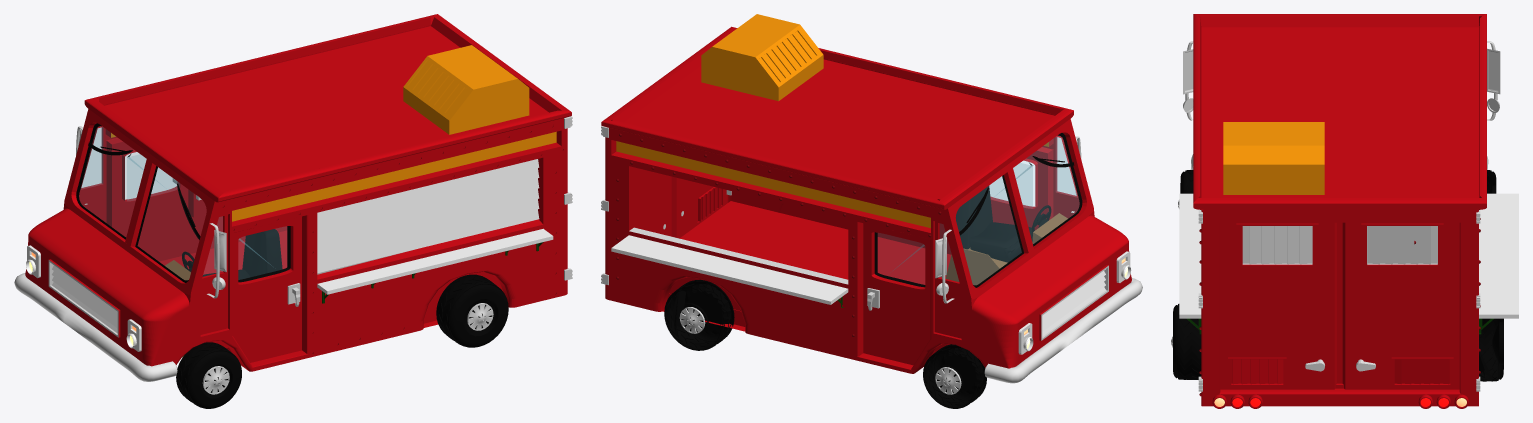
Rendered from FOOD TRUCK.glb.
3 renders of one model, left to right at view 1: azimuth 30°, elevation 25°; view 2: azimuth 150°, elevation 25°; view 3: azimuth 270°, elevation 25°, orthographic. The views are drawn at different scales.
Parts seen in each view (by area): view 1: TRUCK, VENT, TIRES, SERVING COUNTER, BUMPER, CARSEAT, HUBCAPS, MIRRORS, HEADLIGHTS; view 2: TRUCK, VENT, TIRES, SERVING COUNTER, BUMPER, CARSEAT, HUBCAPS, CARSEAT MOUNT, HEADLIGHTS, MIRRORS, STEERING WHEEL; view 3: TRUCK, SERVING COUNTER, VENT, TIRES, MIRRORS, BRAKELIGHTS, HINGES, HANDLES.
Boxes of the visible parts, x1,y1,x2,y2 form: TRUCK: (25, 14, 571, 371); VENT: (403, 45, 529, 134); TIRES: (176, 274, 508, 408); SERVING COUNTER: (172, 178, 553, 294); BUMPER: (14, 273, 177, 381); CARSEAT: (202, 229, 282, 279); HUBCAPS: (202, 303, 493, 394); MIRRORS: (76, 126, 226, 298); HEADLIGHTS: (26, 245, 141, 351); TRUCK: (601, 26, 1131, 373); VENT: (701, 14, 823, 101); TIRES: (664, 279, 986, 408); SERVING COUNTER: (611, 235, 848, 304); BUMPER: (984, 278, 1142, 383); CARSEAT: (955, 186, 1034, 262); HUBCAPS: (679, 307, 961, 394); CARSEAT MOUNT: (945, 247, 1007, 285); HEADLIGHTS: (1018, 251, 1131, 354); MIRRORS: (935, 136, 1081, 303); STEERING WHEEL: (1032, 205, 1067, 243); TRUCK: (1193, 14, 1486, 406); SERVING COUNTER: (1179, 193, 1518, 318); VENT: (1223, 122, 1324, 194); TIRES: (1173, 170, 1503, 381); MIRRORS: (1183, 41, 1500, 120); BRAKELIGHTS: (1212, 394, 1468, 408); HINGES: (1198, 210, 1480, 391); HANDLES: (1305, 359, 1375, 371).
Size of the model in its own units: 3.05 by 1.62 by 1.93.
